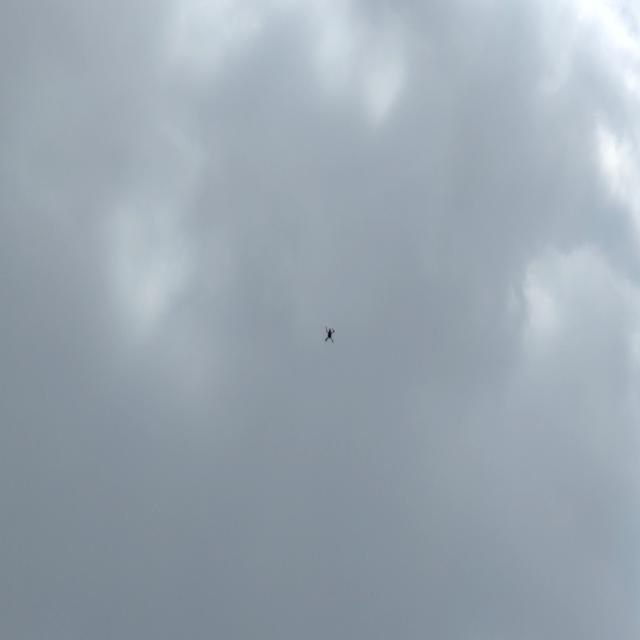drone: (320, 324, 341, 347)
